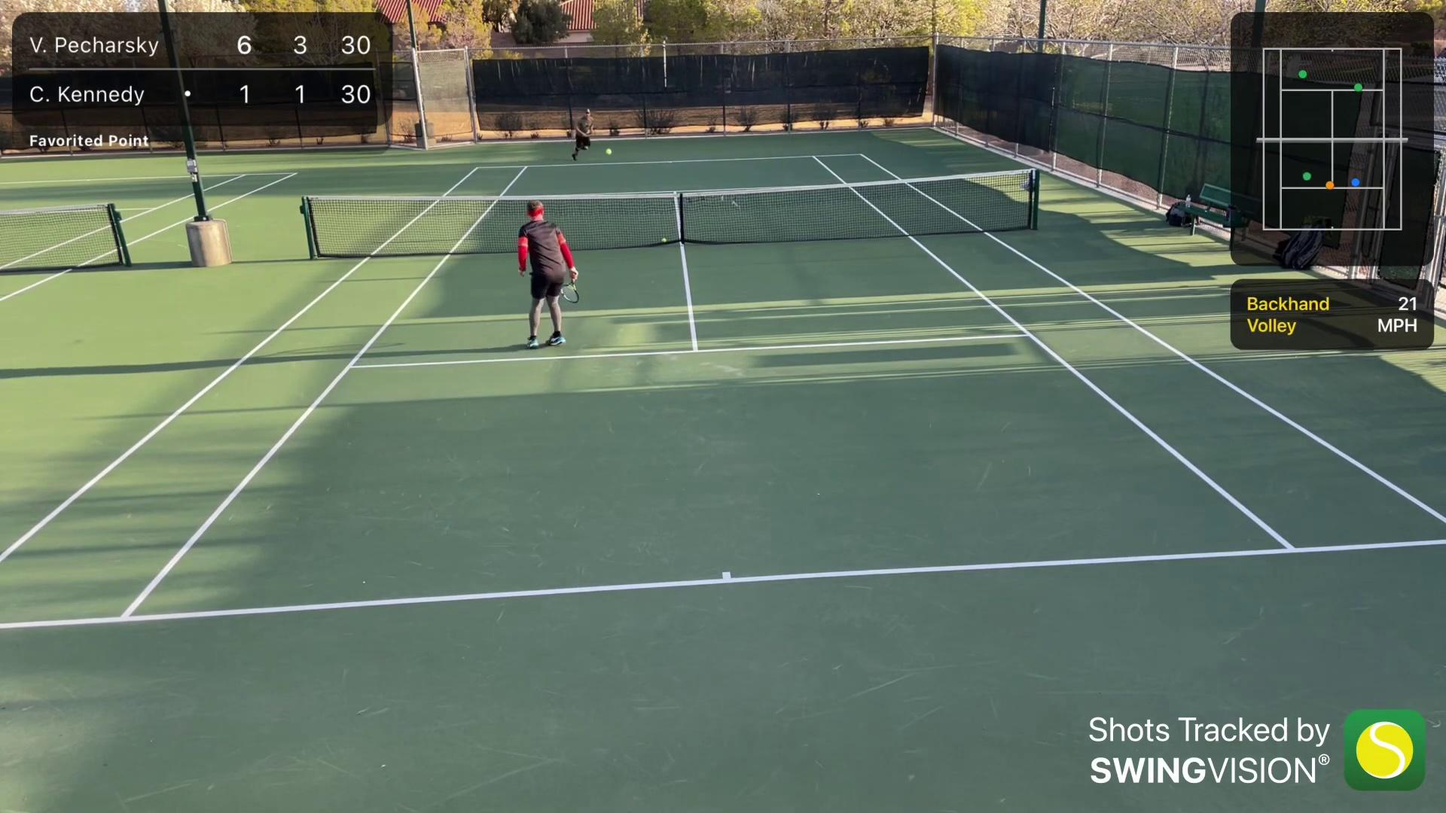ball: (604, 148, 613, 157), (660, 236, 668, 243)
